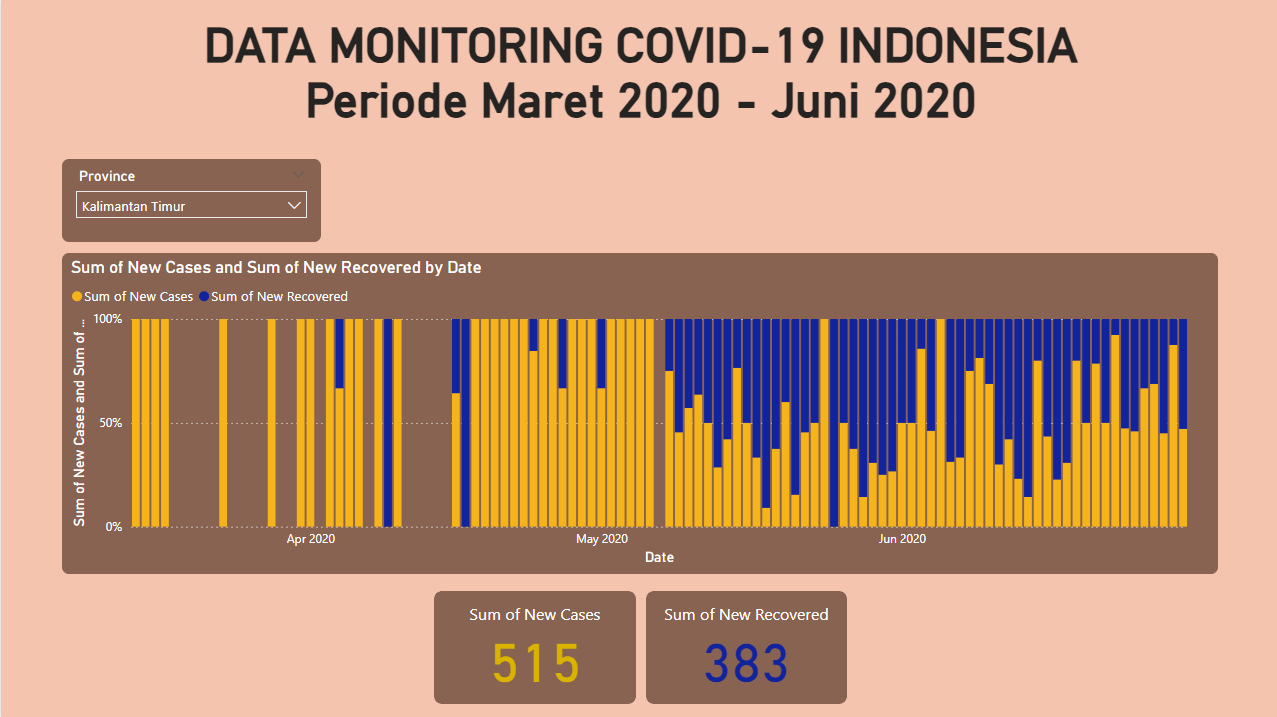

This screenshot's page, from the dashboard's own definition file:
{"tool":"powerbi","page":{"name":"Column chart","canvas":[1280,720],"ordinal":0},"visuals":[{"type":"hundredPercentStackedColumnChart","fields":{"Category":["covid_19_indonesia_time_series_all (3).Date"],"Y":["Sum(covid_19_indonesia_time_series_all (3).New Cases)","Sum(covid_19_indonesia_time_series_all (3).New Recovered)"]},"box":[60,235,1155,310],"z":0},{"type":"textbox","box":[0,0,1280,146.7],"z":1000},{"type":"cardVisual","fields":{"Data":["Sum(covid_19_indonesia_time_series_all (3).New Cases)"]},"box":[390,565,250,145],"z":2000},{"type":"cardVisual","fields":{"Data":["Sum(covid_19_indonesia_time_series_all (3).New Recovered)"]},"box":[706.7,560,250,150],"z":3000},{"type":"slicer","fields":{"Values":["covid_19_indonesia_time_series_all (3).Province"]},"box":[60,146,258,82],"z":4000}]}

Visuals, with their boxes in screenshot pixels (x1, y1, x2, y2), scaled from the page's 1280x720 canvas onto the 1277x717 screenshot:
hundredPercentStackedColumnChart - covid_19_indonesia_time_series_all (3).Date x Sum(covid_19_indonesia_time_series_all (3).New Cases): Rect(60, 234, 1212, 543)
textbox: Rect(0, 0, 1276, 146)
cardVisual - Sum(covid_19_indonesia_time_series_all (3).New Cases): Rect(389, 563, 638, 707)
cardVisual - Sum(covid_19_indonesia_time_series_all (3).New Recovered): Rect(705, 558, 954, 707)
slicer - covid_19_indonesia_time_series_all (3).Province: Rect(60, 145, 317, 227)
